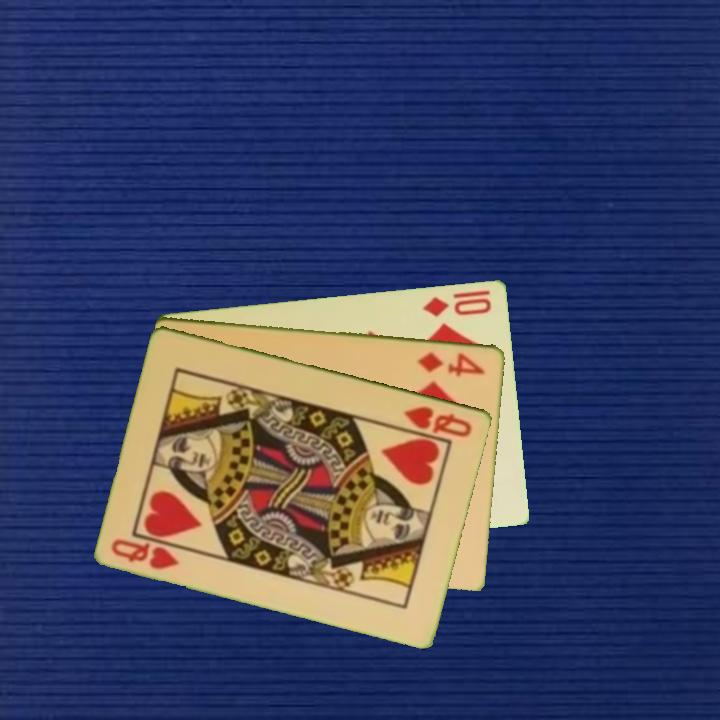10d: (419, 286, 495, 319)
4d: (414, 348, 489, 379)
Qh: (401, 402, 475, 440), (108, 535, 183, 572)
